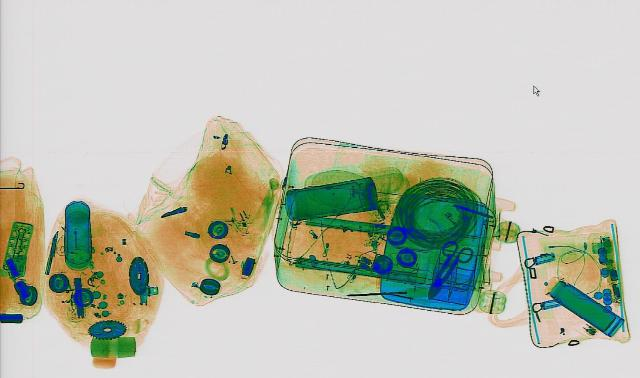Scissors: (412, 237, 478, 300)
